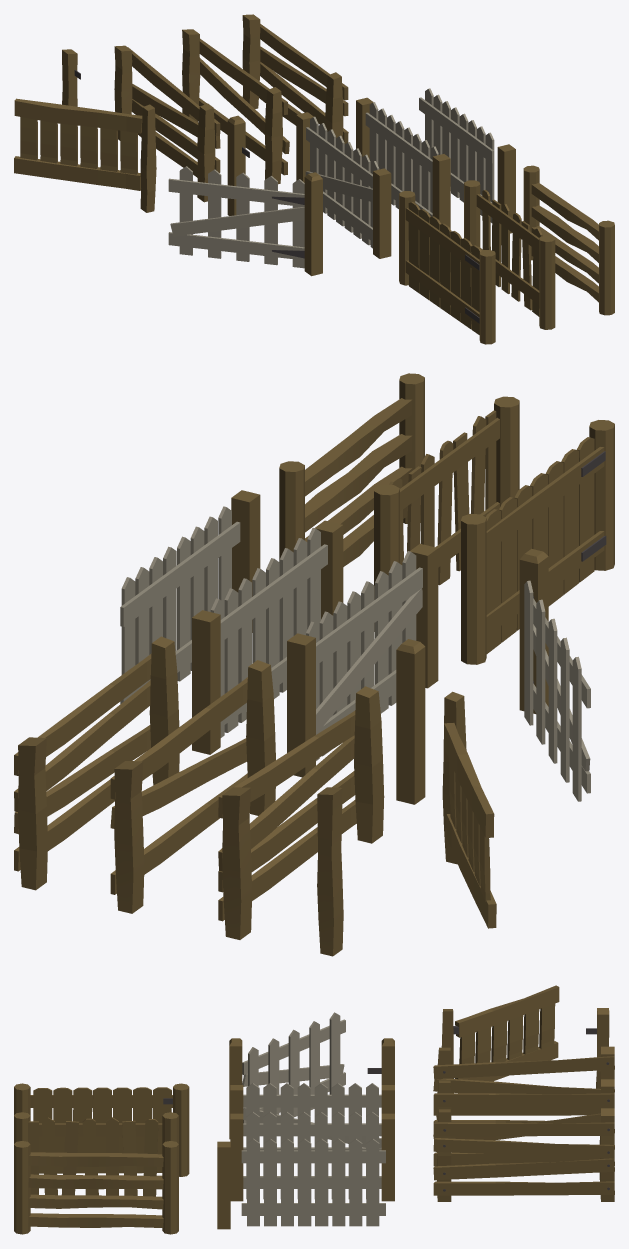
The model's file is Fences and Gates.fbx.
3 views of the same model, one above another, from view 1: azimuth 30°, elevation 25°; view 2: azimuth 150°, elevation 25°; view 3: azimuth 270°, elevation 25° (orthographic). The views are drawn at different scales.
Parts seen in each view (by area): view 1: Cube.054, Cube.050, Cube.066, Cube.014, Cube.023, Cube.017, Cube.041, Cube.020, Cube.040, Cube.051, Cylinder.014, Cylinder.012 (+33 smaller); view 2: Cube.023, Cube.014, Cube.066, Cube.017, Cube.050, Cube.041, Cube.054, Cube.024, Cube.032, Cube.036, Cube.031, Cube.052 (+33 smaller); view 3: Cube.023, Cube.017, Cube.014, Cube.054, Cube.066, Cube.050, Cube.041, Cube.039, Cube.030, Cube.027, Cube.026, Cube.029 (+27 smaller).
Part boxes in pixels (x1,y1,x2,y2): Cube.054: (14, 98, 142, 190); Cube.050: (168, 166, 304, 268); Cube.066: (405, 202, 481, 334); Cube.014: (356, 97, 450, 228); Cube.023: (242, 14, 348, 144); Cube.017: (419, 88, 494, 222); Cube.041: (310, 116, 379, 248); Cube.020: (304, 172, 322, 276); Cube.040: (373, 168, 391, 258); Cube.051: (140, 104, 156, 212); Cylinder.014: (479, 249, 495, 344); Cylinder.012: (539, 235, 555, 329); Cube.023: (14, 636, 179, 890); Cube.014: (192, 520, 343, 754); Cube.066: (486, 437, 606, 653); Cube.017: (120, 506, 240, 703); Cube.050: (524, 580, 590, 801); Cube.041: (306, 551, 416, 760); Cube.054: (444, 723, 496, 928); Cube.024: (396, 639, 425, 804); Cube.032: (114, 761, 144, 913); Cube.036: (222, 787, 252, 939); Cube.031: (354, 686, 384, 843); Cube.052: (317, 787, 343, 956); Cube.023: (433, 1108, 614, 1201); Cube.017: (241, 1138, 385, 1226); Cube.014: (230, 1111, 394, 1201); Cube.054: (455, 985, 559, 1093); Cube.066: (30, 1087, 172, 1173); Cube.050: (242, 1012, 345, 1123); Cube.041: (246, 1083, 378, 1115); Cube.039: (433, 1056, 614, 1078); Cube.030: (433, 1093, 614, 1107); Cube.027: (28, 1174, 163, 1189); Cube.026: (28, 1152, 163, 1166); Cube.029: (28, 1213, 163, 1227).
Bounding box in the file's own units: 796 × 499 × 153.
